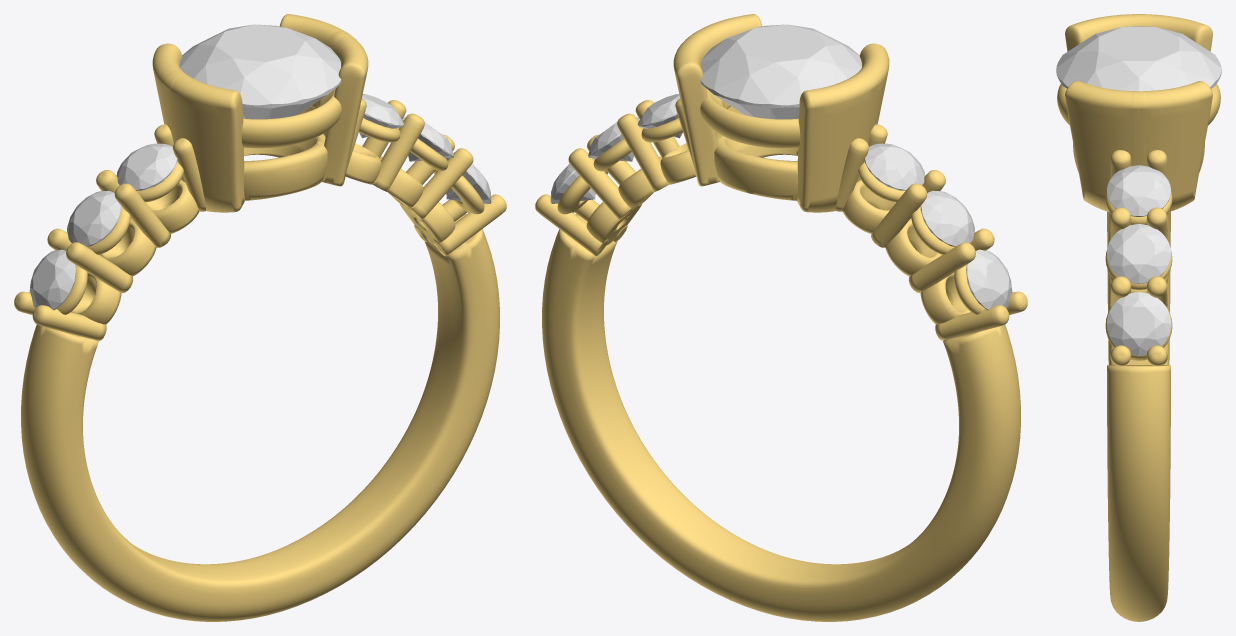
Rendered from diamond-round-yellowgold-halfmoonbezel-straightband-3stone.glb.
3 views of the same model, side by side, from view 1: azimuth 30°, elevation 25°; view 2: azimuth 150°, elevation 25°; view 3: azimuth 270°, elevation 25° (orthographic). The views are drawn at different scales.
Parts seen in each view (by area): view 1: metal, stone, side.004, side.005, side.003, side, side.001, side.002; view 2: metal, stone, side.004, side.005, side.003, side, side.001, side.002; view 3: metal, stone, side.002, side.001, side.
Boxes of the visible parts, x1=… form: metal: x1=14, y1=14, x2=506, y2=621; stone: x1=180, y1=24, x2=341, y2=119; side.004: x1=67, y1=190, x2=121, y2=246; side.005: x1=29, y1=249, x2=75, y2=310; side.003: x1=116, y1=143, x2=177, y2=190; side: x1=359, y1=94, x2=404, y2=138; side.001: x1=402, y1=117, x2=453, y2=161; side.002: x1=446, y1=158, x2=491, y2=203; metal: x1=535, y1=14, x2=1027, y2=621; stone: x1=700, y1=24, x2=861, y2=119; side.004: x1=920, y1=190, x2=974, y2=246; side.005: x1=966, y1=249, x2=1012, y2=310; side.003: x1=864, y1=143, x2=925, y2=190; side: x1=637, y1=94, x2=682, y2=138; side.001: x1=588, y1=117, x2=639, y2=161; side.002: x1=550, y1=158, x2=595, y2=203; metal: x1=1057, y1=14, x2=1220, y2=621; stone: x1=1056, y1=26, x2=1221, y2=91; side.002: x1=1107, y1=292, x2=1170, y2=355; side.001: x1=1107, y1=224, x2=1170, y2=283; side: x1=1107, y1=165, x2=1170, y2=216.
Size of the model in its own units: 20.58 by 23.81 by 6.44.
